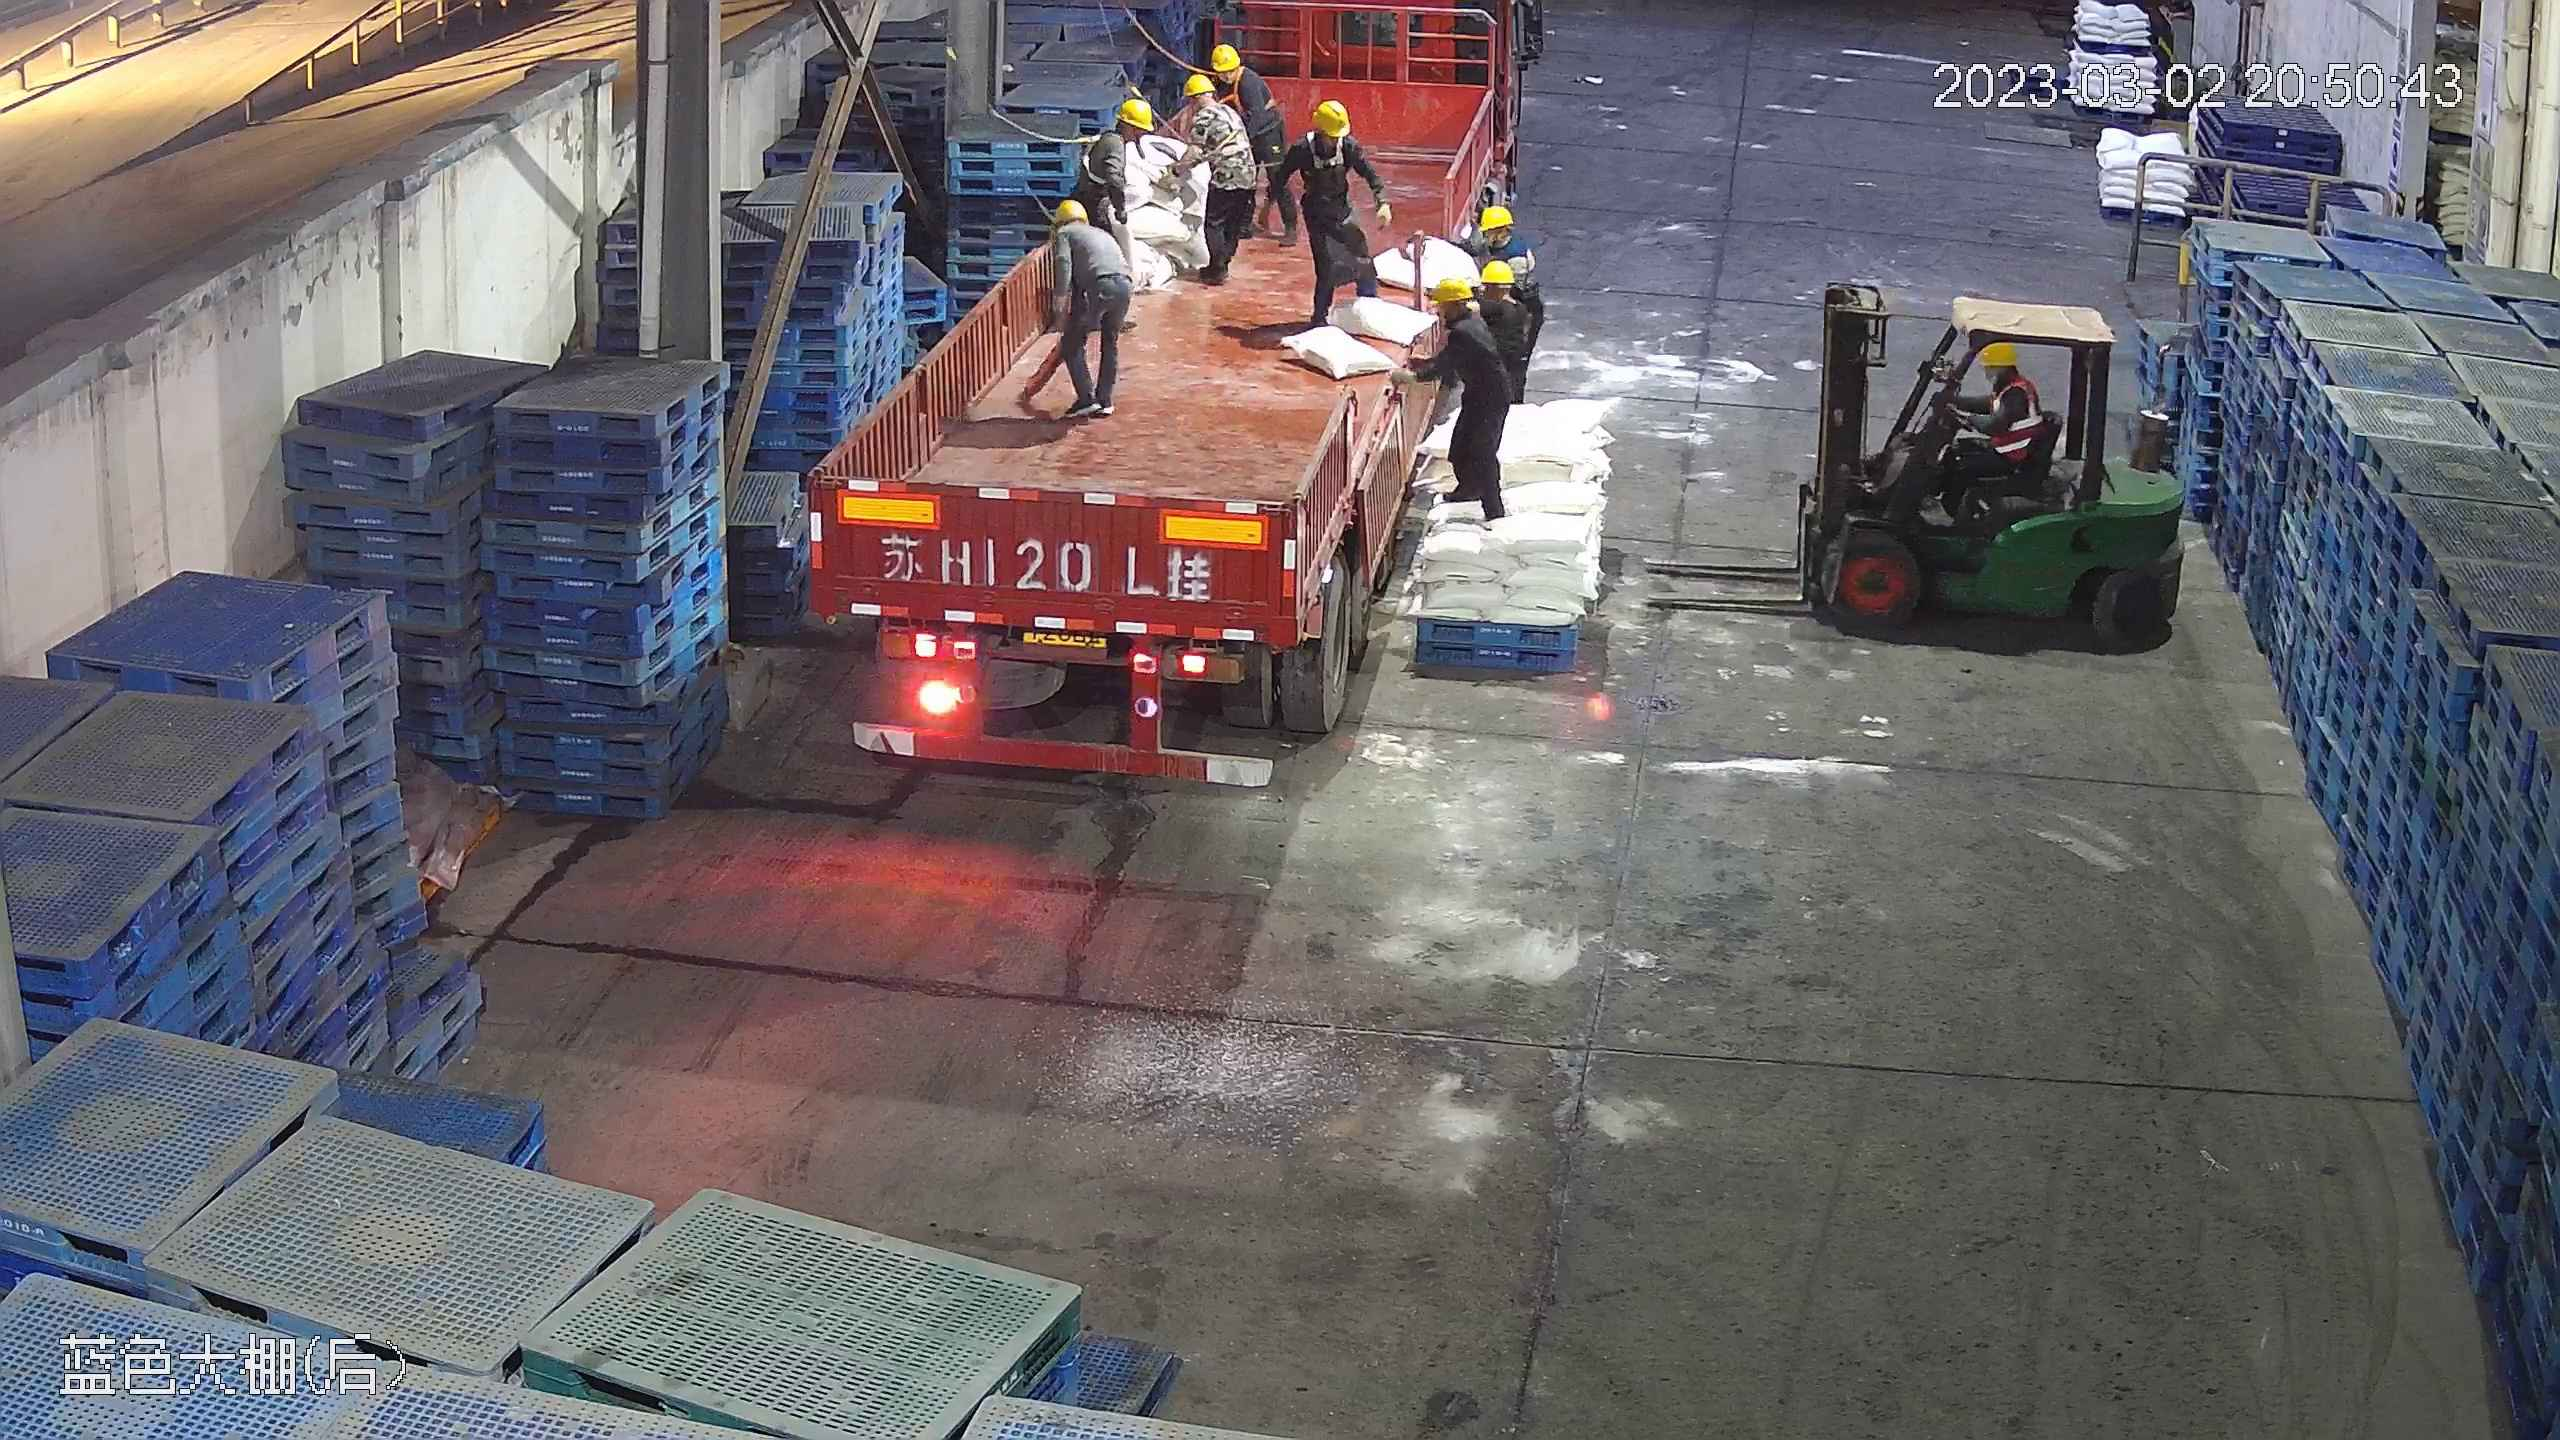belt: (1197, 89, 1249, 158), (1225, 65, 1279, 122), (1073, 131, 1128, 184), (1305, 137, 1358, 186)
head: (1419, 278, 1502, 372), (1469, 200, 1539, 301), (1286, 99, 1371, 178), (1078, 97, 1156, 177), (1196, 41, 1269, 116), (1049, 192, 1124, 265), (1973, 337, 2039, 416), (1181, 72, 1238, 140)
helmet: (1309, 98, 1350, 134), (1117, 96, 1156, 132), (1047, 195, 1086, 229), (1430, 278, 1474, 308), (1205, 39, 1244, 70), (1476, 200, 1516, 232), (1978, 337, 2019, 366), (1479, 259, 1516, 287), (1178, 74, 1216, 99)
people: (1279, 95, 1391, 334), (1412, 278, 1509, 531), (1922, 334, 2046, 514), (1041, 192, 1130, 419), (1213, 42, 1303, 245), (1069, 98, 1155, 292), (1178, 69, 1250, 290)
truck: (812, 53, 1516, 788)
